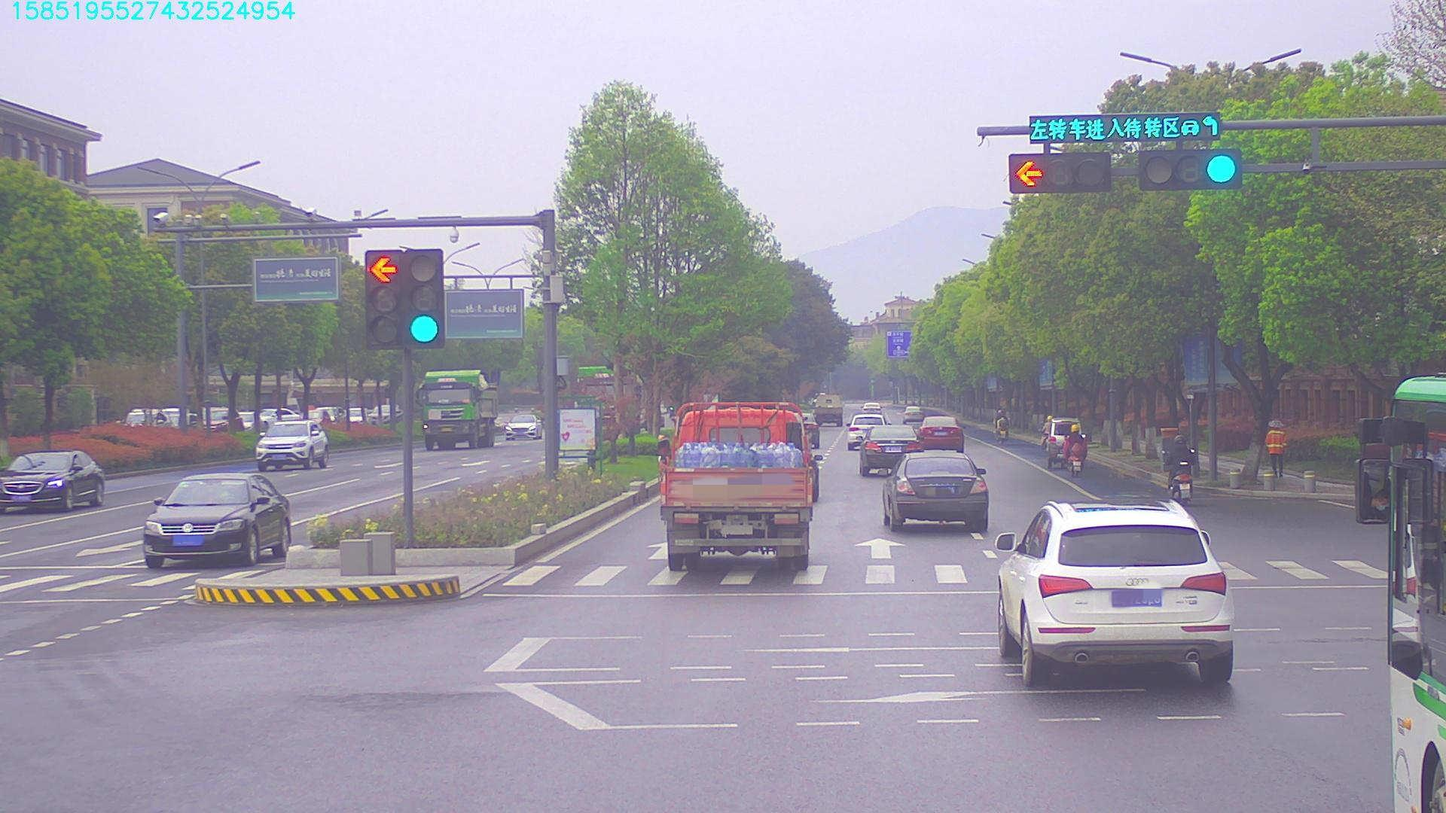green: (1145, 151, 1223, 180)
red: (1016, 154, 1112, 200)
wait_on: (1025, 117, 1212, 144)
